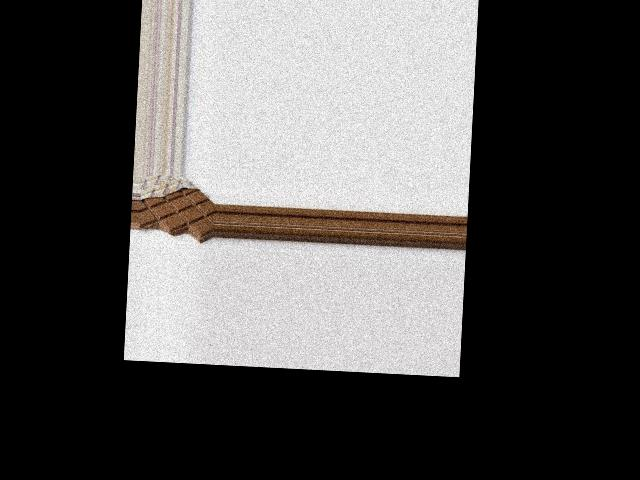chocolate: (137, 174, 215, 237)
